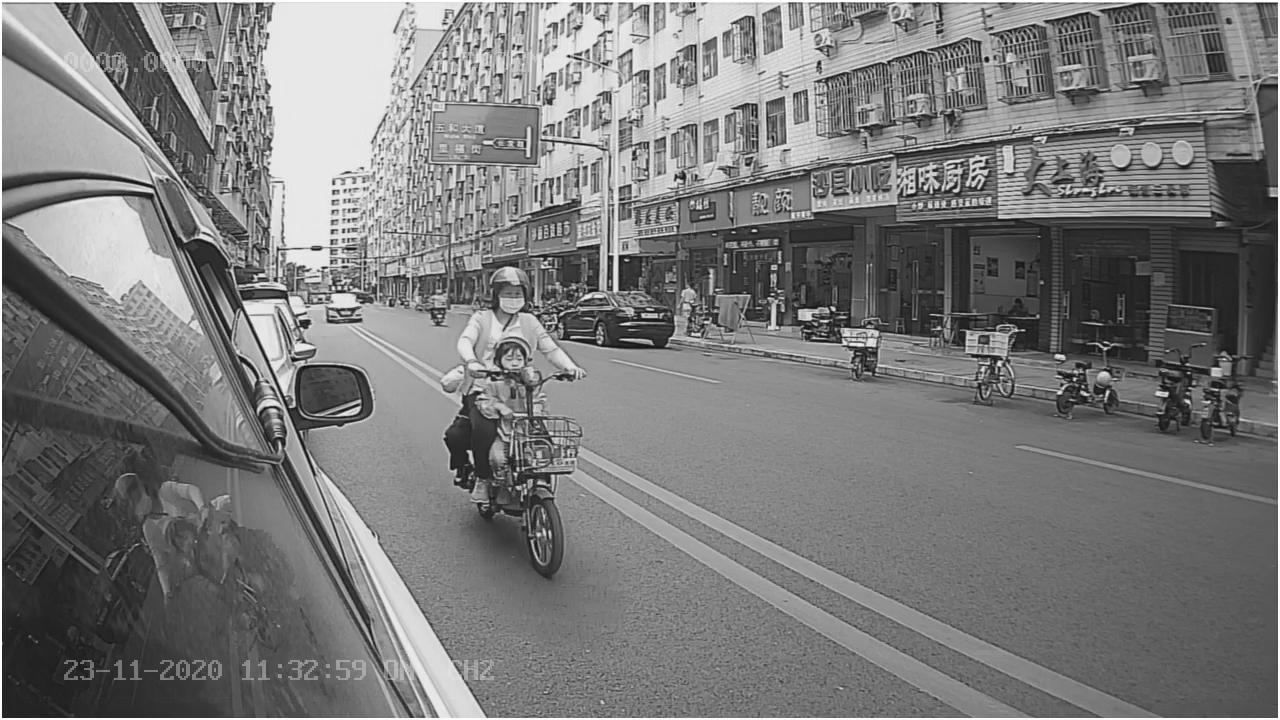person: (458, 262, 562, 370)
